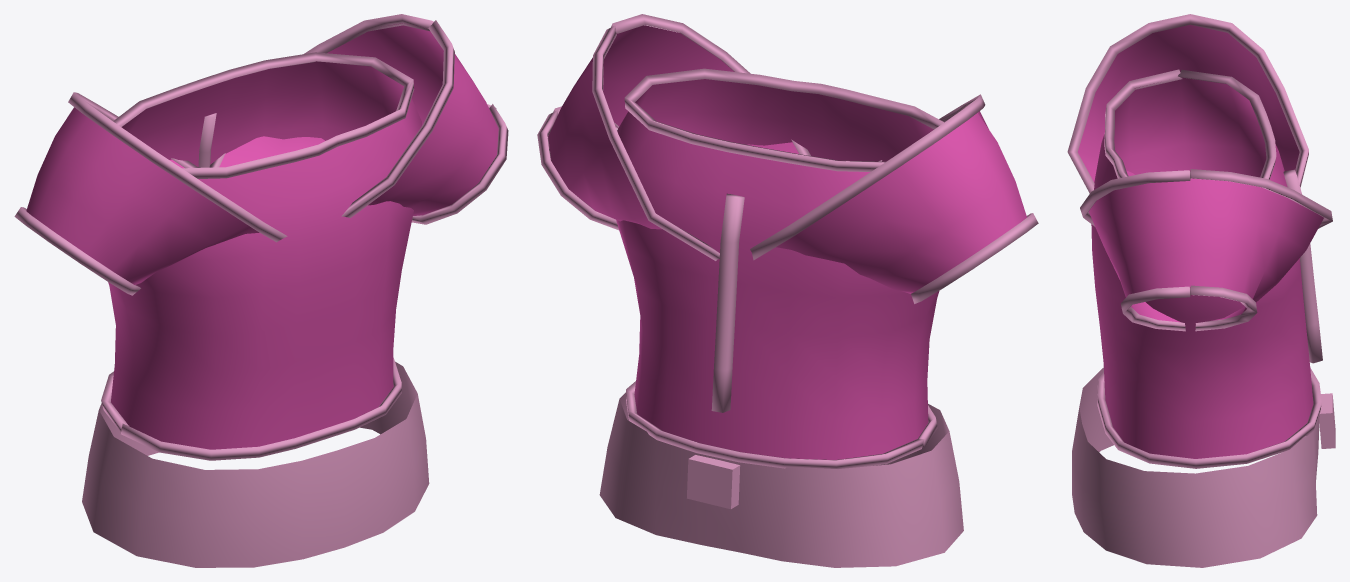
Rendered from orichalcum_chainmail.glb.
3 renders of one model, left to right at view 1: azimuth 30°, elevation 25°; view 2: azimuth 150°, elevation 25°; view 3: azimuth 270°, elevation 25°, orthographic. The views are drawn at different scales.
Visible parts, largest first — view 1: orichalcum_chainmail_chest; view 2: orichalcum_chainmail_chest; view 3: orichalcum_chainmail_chest.
Boxes of the visible parts, x1,y1,x2,y2 form: orichalcum_chainmail_chest: (14,14,508,567); orichalcum_chainmail_chest: (537,14,1038,567); orichalcum_chainmail_chest: (1067,14,1335,567).
Bounding box in the file's own units: 0.6477 × 0.5848 × 0.3444.
